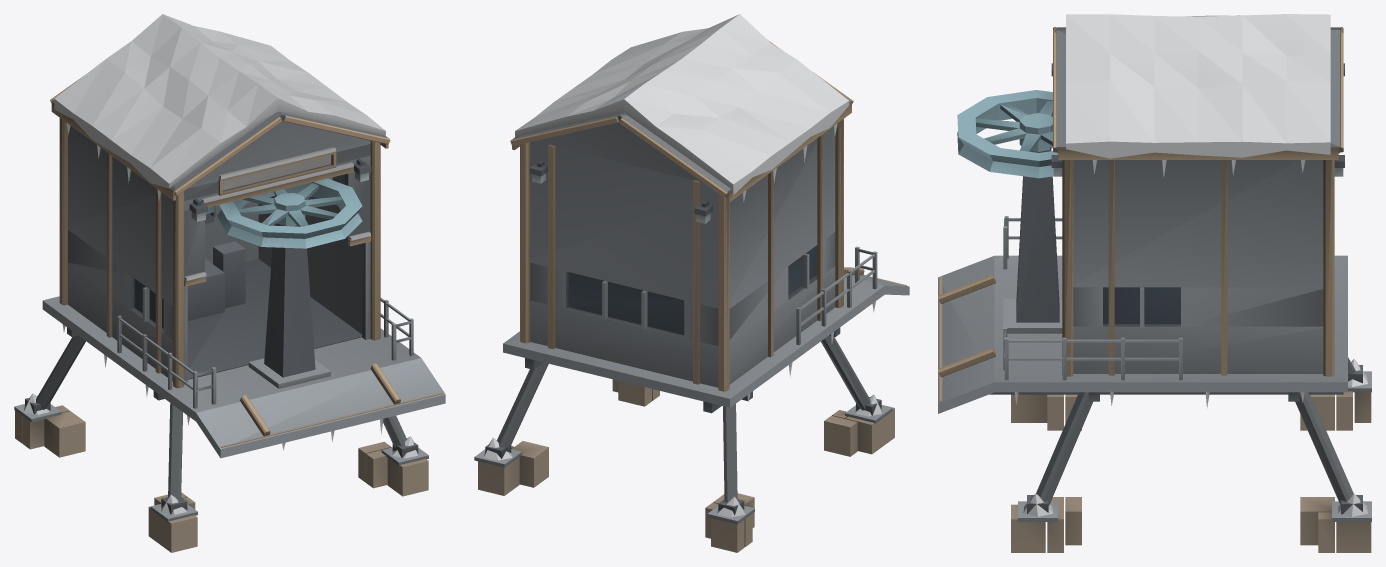
Rendered from top.glb.
3 views of the same model, side by side, from view 1: azimuth 30°, elevation 25°; view 2: azimuth 150°, elevation 25°; view 3: azimuth 270°, elevation 25° (orthographic). The views are drawn at different scales.
Visible parts, largest first — view 1: top; view 2: top; view 3: top.
Part boxes in pixels (<box>): top: <box>14,14,445,552</box>; top: <box>474,14,909,552</box>; top: <box>938,14,1371,552</box>.
Bounding box in the file's own units: 9.6 × 14.27 × 12.
